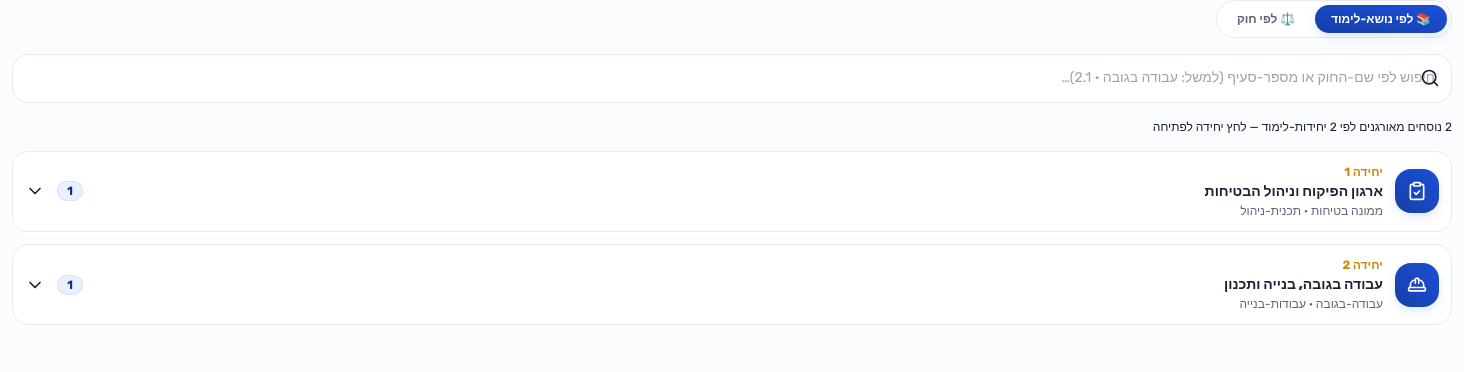
LegislationLibrary — תצוגת-חוק + קישורים + חיפוש › חיפוש לפי מספר-scope
The width and height of the screenshot is (1464, 372).
Step 1. Type "1.0" into the search field named "חיפוש חוק או תקנה" → (732, 78), box 12,54 -> 1452,103
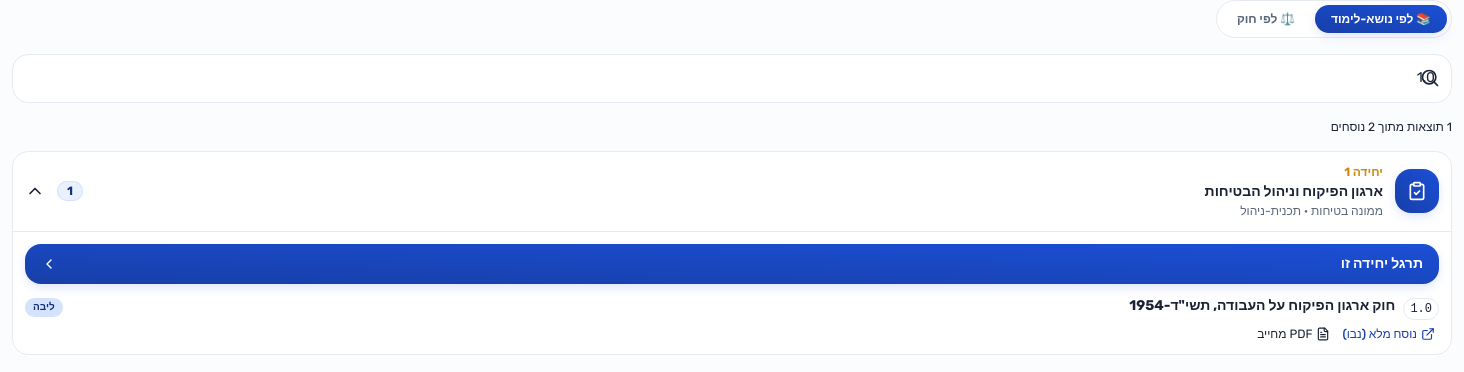
Now the list item with test id "legislation-item-1.0" is shown, box 25,284 -> 1439,354
